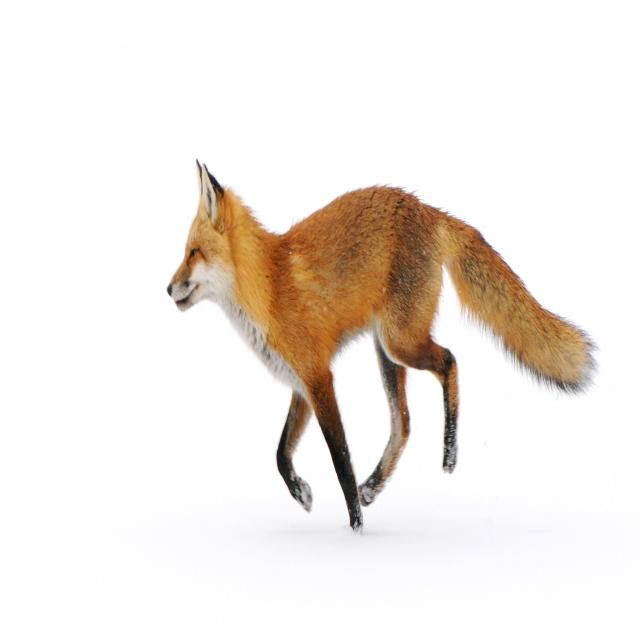fox: (166, 157, 600, 534)
